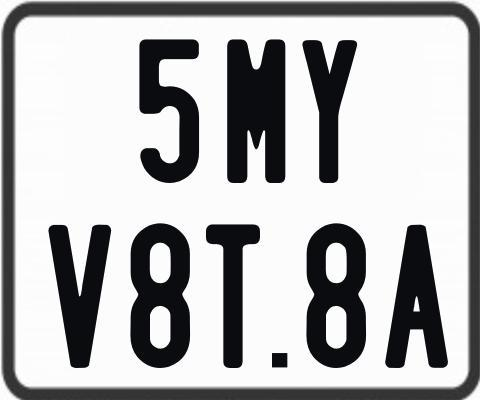5: (137, 38, 199, 188)
8: (304, 221, 366, 370), (128, 223, 189, 368)
A: (384, 223, 449, 366)
M: (225, 38, 284, 185)
T: (204, 222, 263, 372)
V: (47, 225, 114, 370)
Y: (302, 37, 360, 180)
